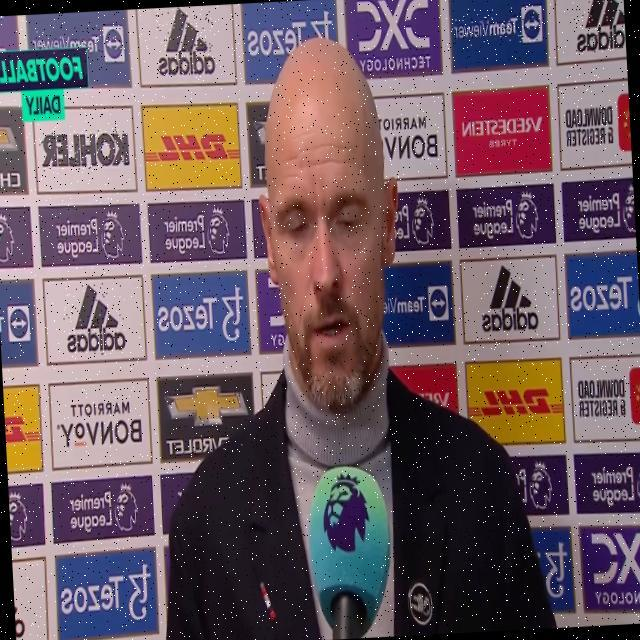Adidas: (62, 282, 128, 357), (478, 264, 539, 335), (156, 6, 216, 77), (572, 0, 626, 53)
Chevrolet: (161, 381, 249, 457)
Kohler: (39, 128, 130, 172)
TeamViewer: (32, 23, 126, 68), (451, 5, 543, 47)
